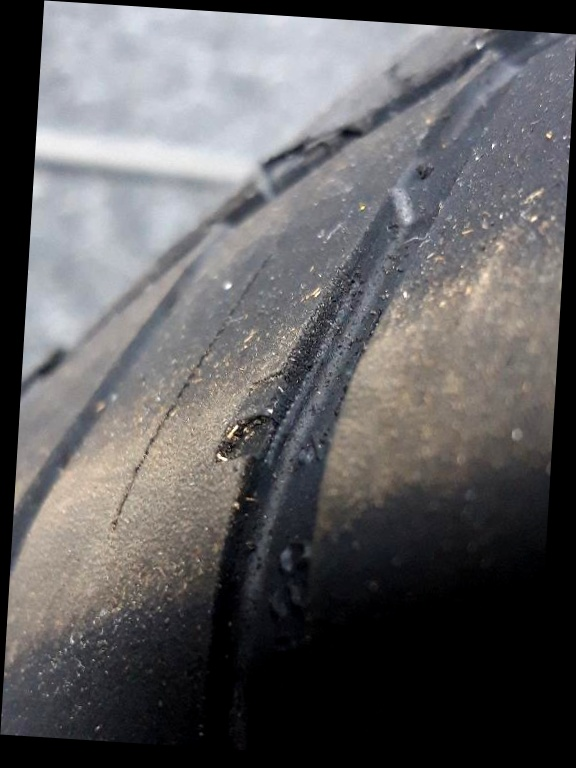temoin:25: (195, 352, 308, 485)
